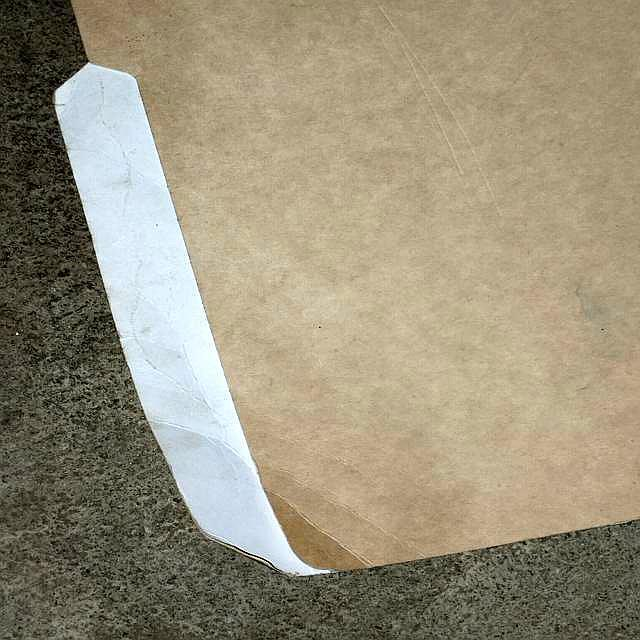Biodegradable: (24, 1, 640, 598)
